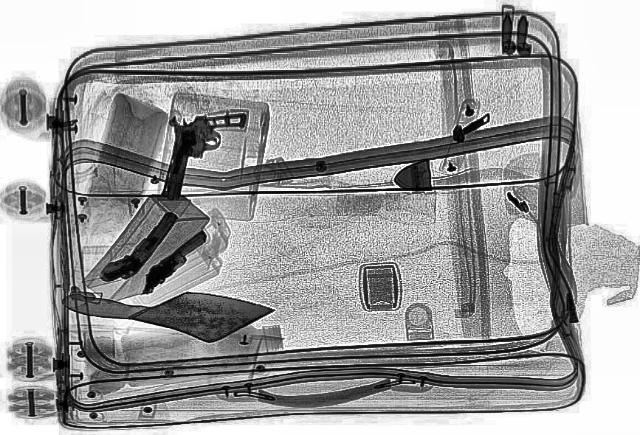Gun: (88, 207, 195, 287), (117, 227, 230, 299), (158, 110, 246, 200)
Knife: (54, 276, 280, 350)
